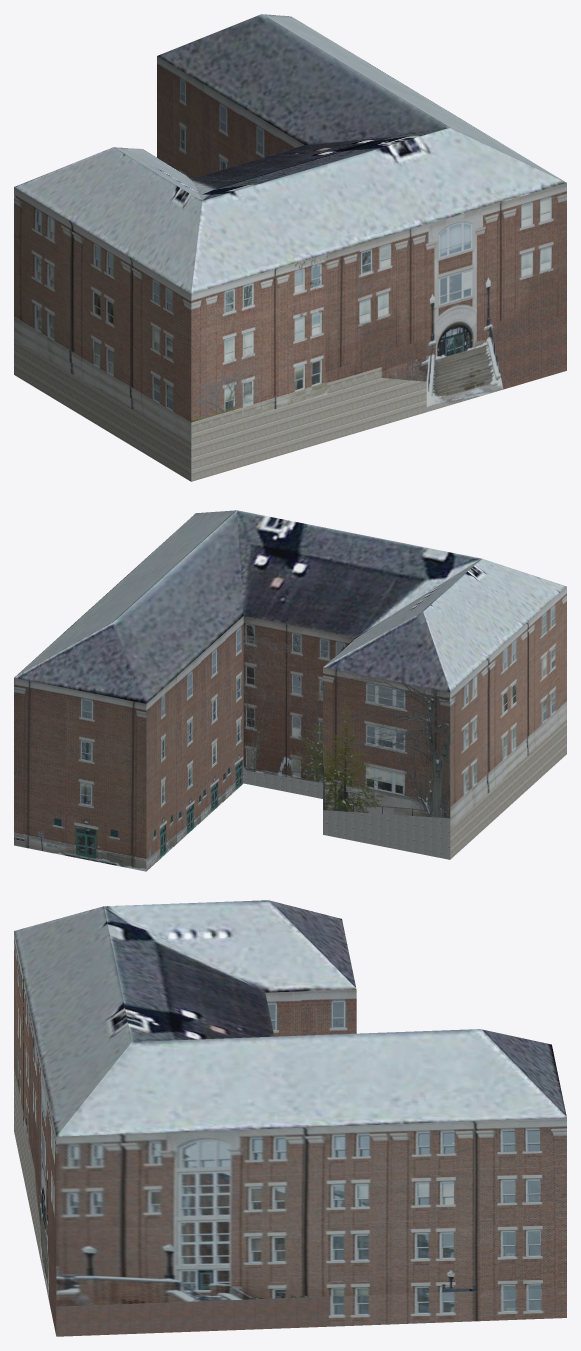
Rendered from OlinHall.dae.
The picture shows the model from 3 angles, top to bottom: view 1: azimuth 30°, elevation 25°; view 2: azimuth 150°, elevation 25°; view 3: azimuth 270°, elevation 25°; orthographic projection. The views are drawn at different scales.
Parts seen in each view (by area): view 1: SketchUp (×11); view 2: SketchUp (×9); view 3: SketchUp (×7).
Boxes of the visible parts, x1,y1,x2,y2 form: SketchUp (×11): [14, 14, 566, 481]; SketchUp (×9): [14, 510, 566, 871]; SketchUp (×7): [14, 900, 566, 1336].
Size of the model in its own units: 1630 by 1750 by 881.
Materials: 25 (24 with a texture image).
